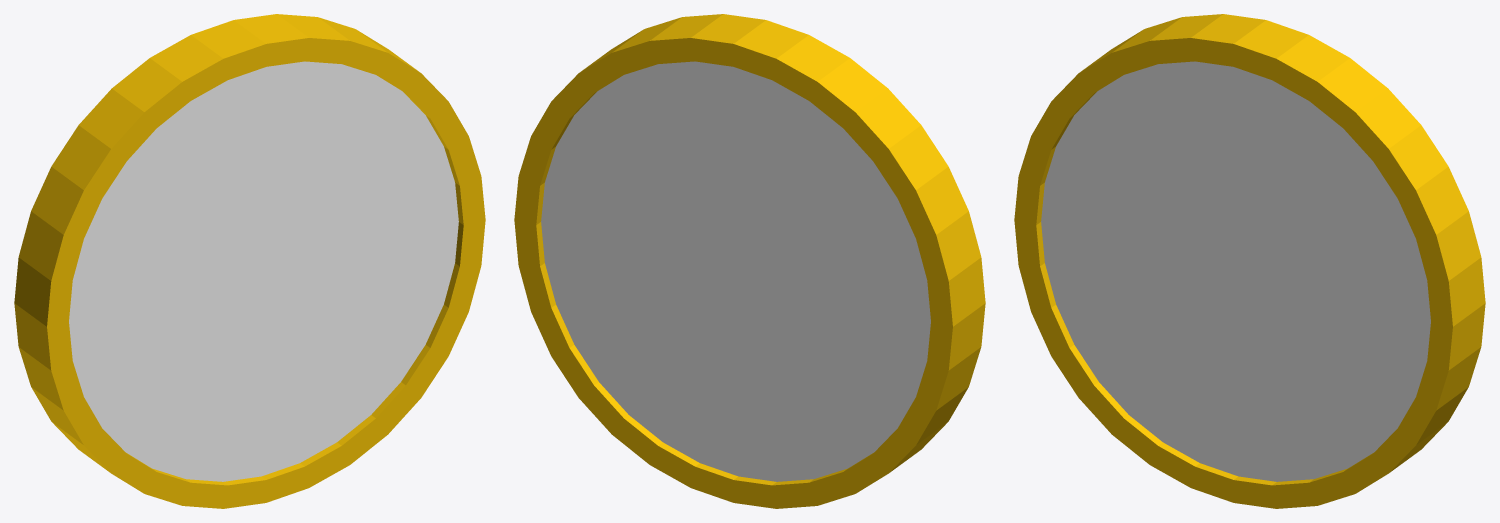
The model's file is alchem.glb.
3 views of the same model, side by side, from view 1: azimuth 30°, elevation 25°; view 2: azimuth 150°, elevation 25°; view 3: azimuth 330°, elevation 25° (orthographic).
Visible parts, largest first — view 1: coinmiddle, Cylinder.001; view 2: coinmiddle, Cylinder.001; view 3: coinmiddle, Cylinder.001.
Boxes of the visible parts, <box> form: coinmiddle: <box>69,61,458,481</box>; Cylinder.001: <box>14,14,485,508</box>; coinmiddle: <box>541,61,930,481</box>; Cylinder.001: <box>514,14,985,508</box>; coinmiddle: <box>1041,61,1430,481</box>; Cylinder.001: <box>1014,14,1485,508</box>.
Size of the model in its own units: 2.2 by 2.2 by 0.2838.
